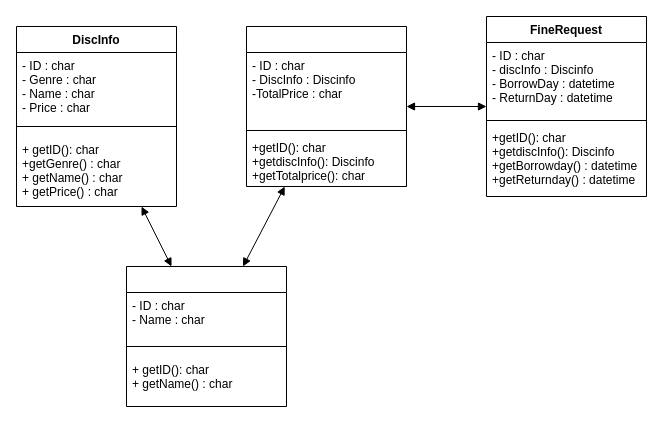
Image size: 663x423. Some labels were removed from this diagram. Here are the shapes that lost their labels. From the top down, the box of each, then its label:
(246, 26, 406, 186): PaymentInfo
(126, 266, 286, 406): Customer
